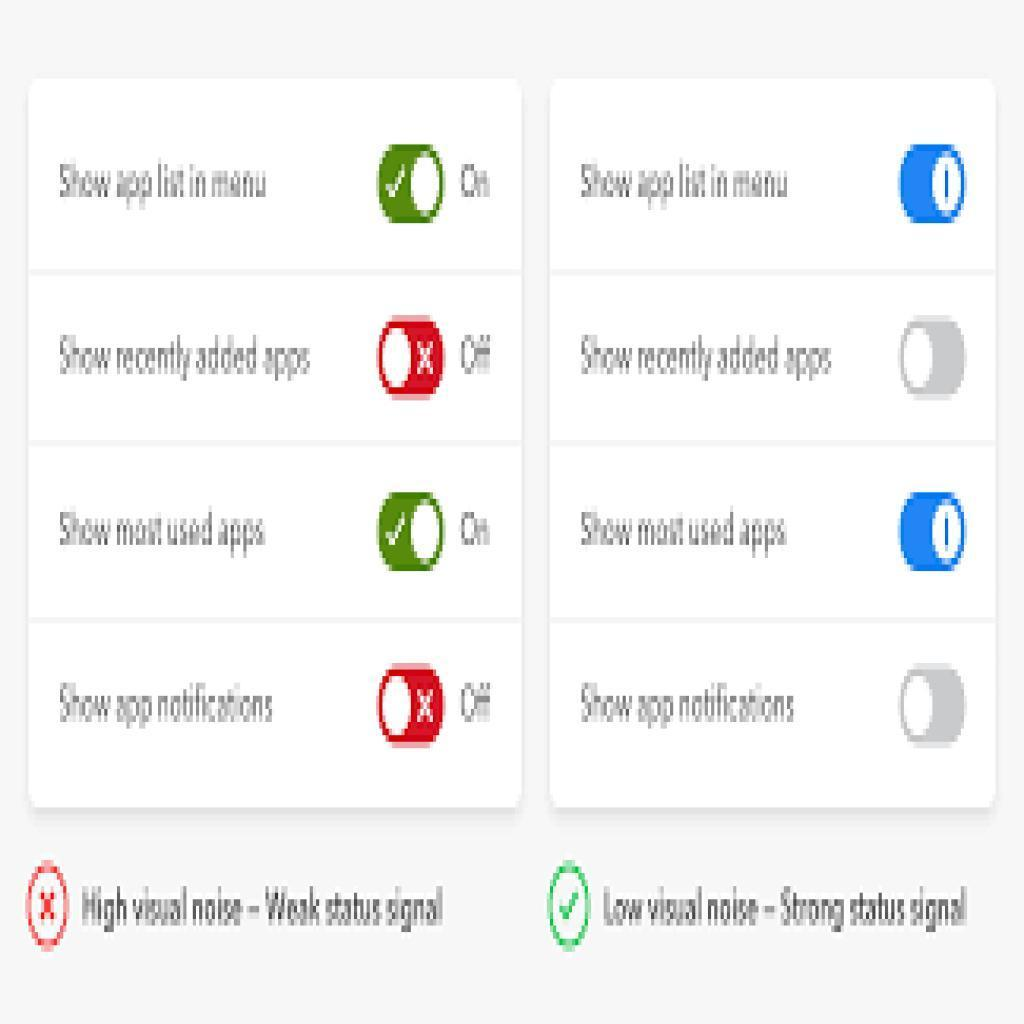label: (575, 325, 852, 387), (58, 331, 317, 391), (54, 504, 279, 565), (51, 674, 278, 733), (41, 154, 277, 210), (575, 674, 798, 731), (572, 508, 791, 560), (580, 155, 794, 208)
switch: (374, 307, 449, 412), (893, 481, 967, 585), (374, 485, 448, 585), (895, 137, 972, 232), (378, 652, 448, 755), (374, 140, 448, 230), (902, 314, 969, 404), (898, 665, 968, 751)
